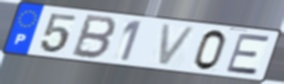0: (192, 29, 228, 71)
1: (118, 18, 144, 63)
5: (38, 11, 79, 54)
B: (69, 13, 120, 61)
E: (224, 33, 271, 77)
V: (156, 22, 199, 68)
